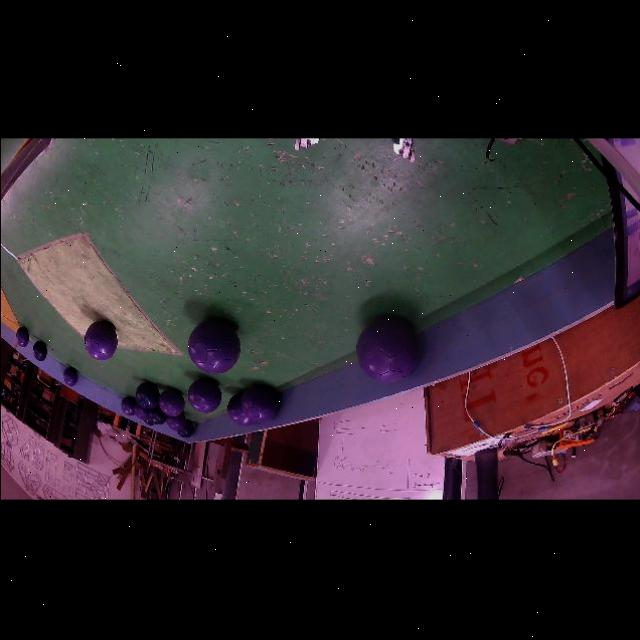B: (135, 380, 159, 408), (148, 404, 166, 423), (177, 419, 193, 437), (32, 340, 46, 360)
P: (355, 316, 418, 380), (187, 317, 240, 373), (226, 384, 277, 424), (84, 319, 116, 359), (187, 378, 220, 412), (158, 387, 184, 416), (166, 412, 186, 429), (62, 365, 77, 385), (15, 325, 28, 346)
